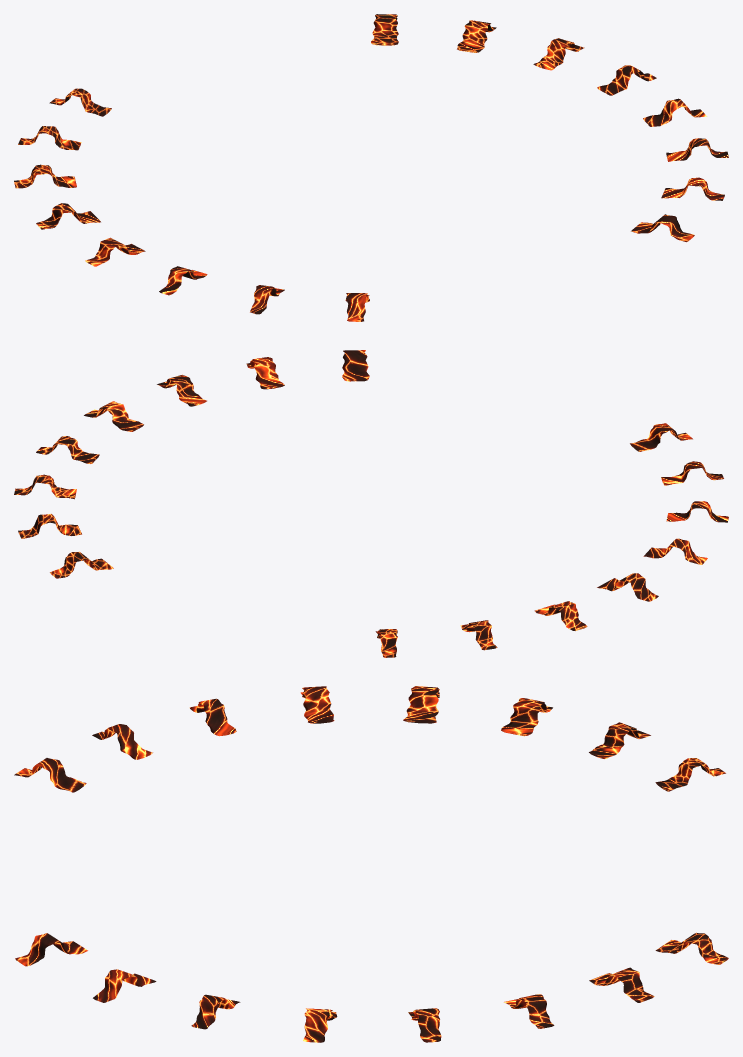
Rendered from lava_spill.glb.
The picture shows the model from 3 angles, top to bottom: view 1: azimuth 30°, elevation 25°; view 2: azimuth 150°, elevation 25°; view 3: azimuth 270°, elevation 25°; orthographic projection. The views are drawn at different scales.
Size of the model in its own units: 151 by 3.66 by 130.
1 material, 1 textured.
